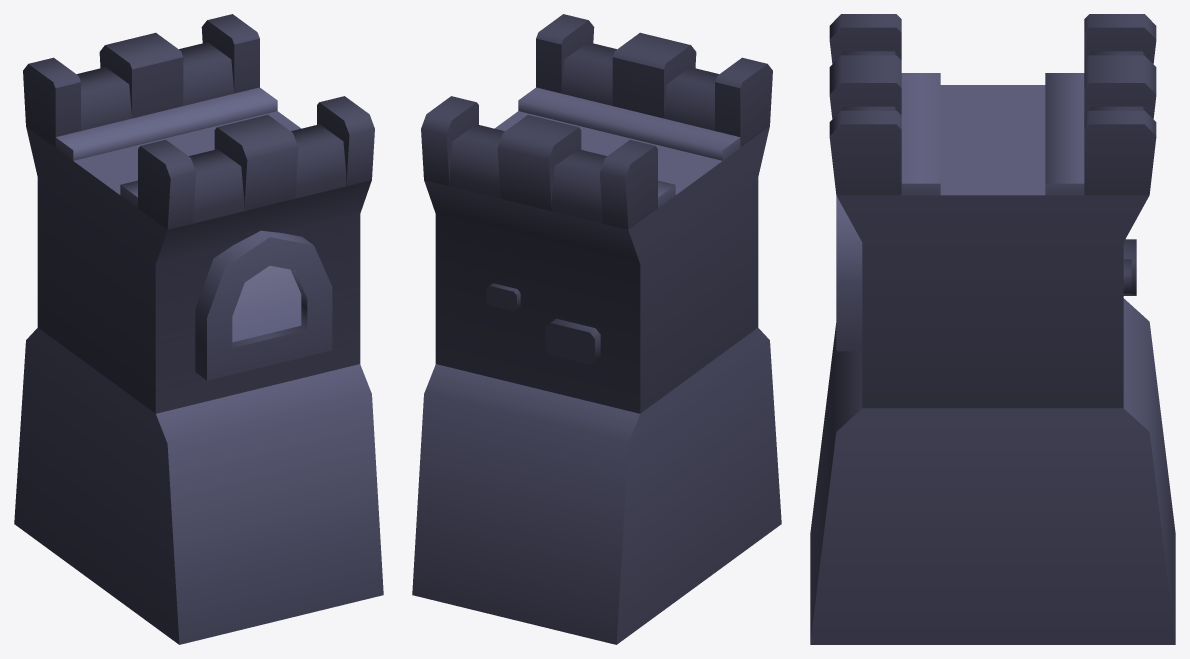
Rendered from castle-window.fbx.
The picture shows the model from 3 angles, left to right: view 1: azimuth 30°, elevation 25°; view 2: azimuth 150°, elevation 25°; view 3: azimuth 270°, elevation 25°; orthographic projection. The views are drawn at different scales.
Parts seen in each view (by area): view 1: castle-window; view 2: castle-window; view 3: castle-window.
Boxes of the visible parts, x1=… form: castle-window: x1=14, y1=14, x2=383, y2=644; castle-window: x1=412, y1=14, x2=781, y2=644; castle-window: x1=810, y1=14, x2=1175, y2=644.
Bounding box in the file's own units: 200 × 440 × 280.
